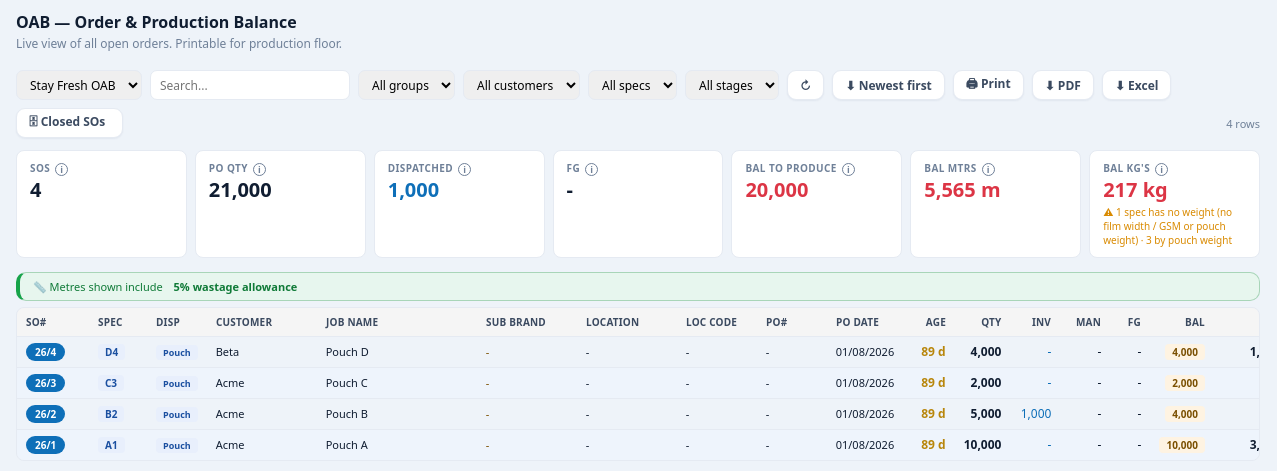
Test: OAB board — Bal Mtrs and Bal Kg's › follows the filters — both figures cover only the rows in view
Expected: the text "Pouch D" is shown, [317,336,477,367]
Select "Beta" in the dropdown named "Filter by customer": (522, 85) [463,70,580,100]
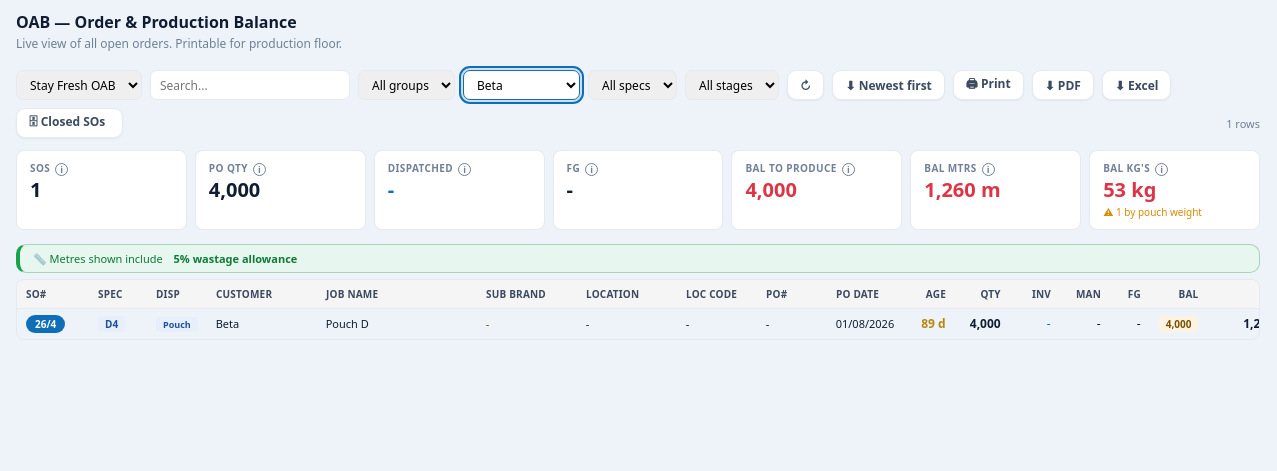
Expected: the text "1,260 m" is shown, [924,176,1001,203]
Expected: the text "53 kg" is shown, [1103,176,1156,203]
